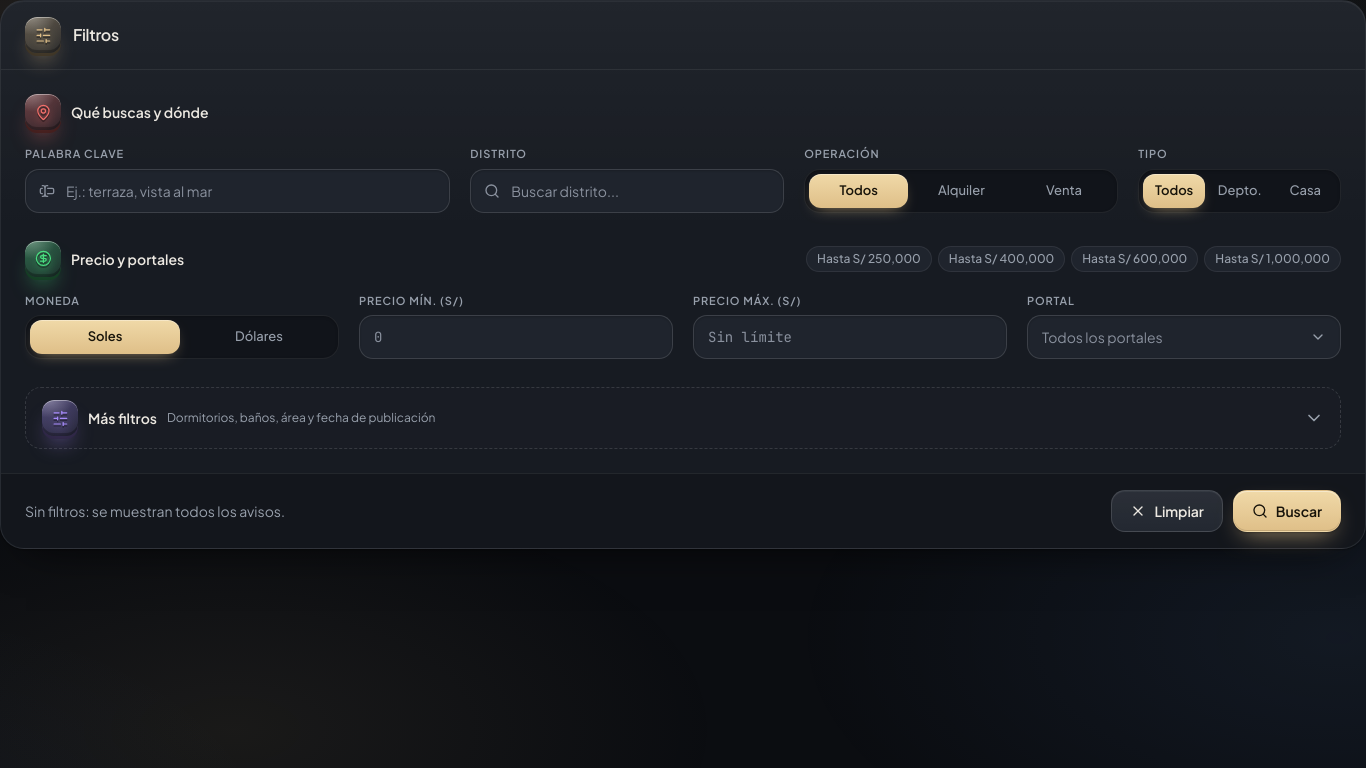
PortalFilters › «Más filtros» despliega dormitorios, baños, área y publicación, y se oculta a los lectores al cerrarse
Click the button "Más filtros Dormitorios, baños, área y fecha de publicación" at (60, 418), box [25,387,1341,449]
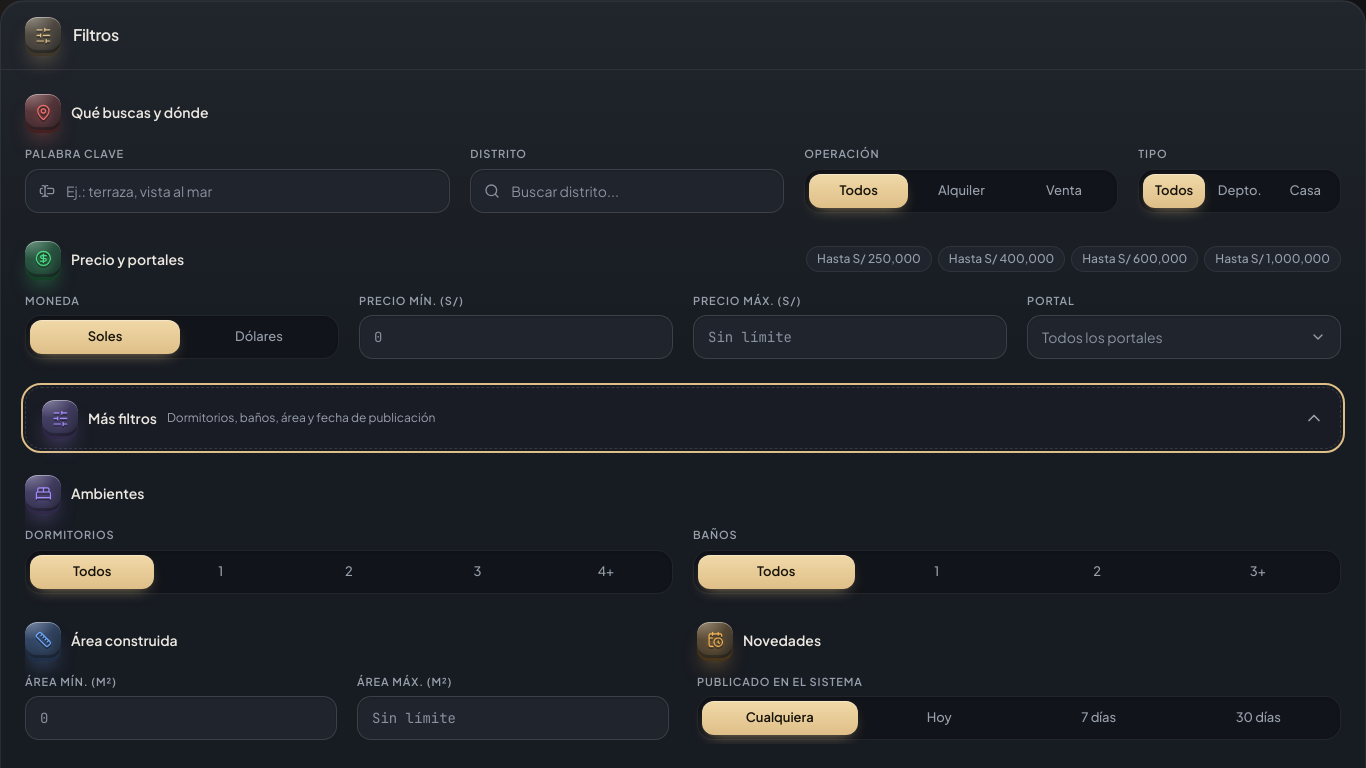
Now the button "Más filtros Dormitorios, baños, área y fecha de publicación" is expanded, box [25,387,1341,449]
Now the number field labelled "Área mín. (m²)" is shown, box [25,696,337,740]
Now the element named "Baños" is shown, box [693,550,1341,594]
